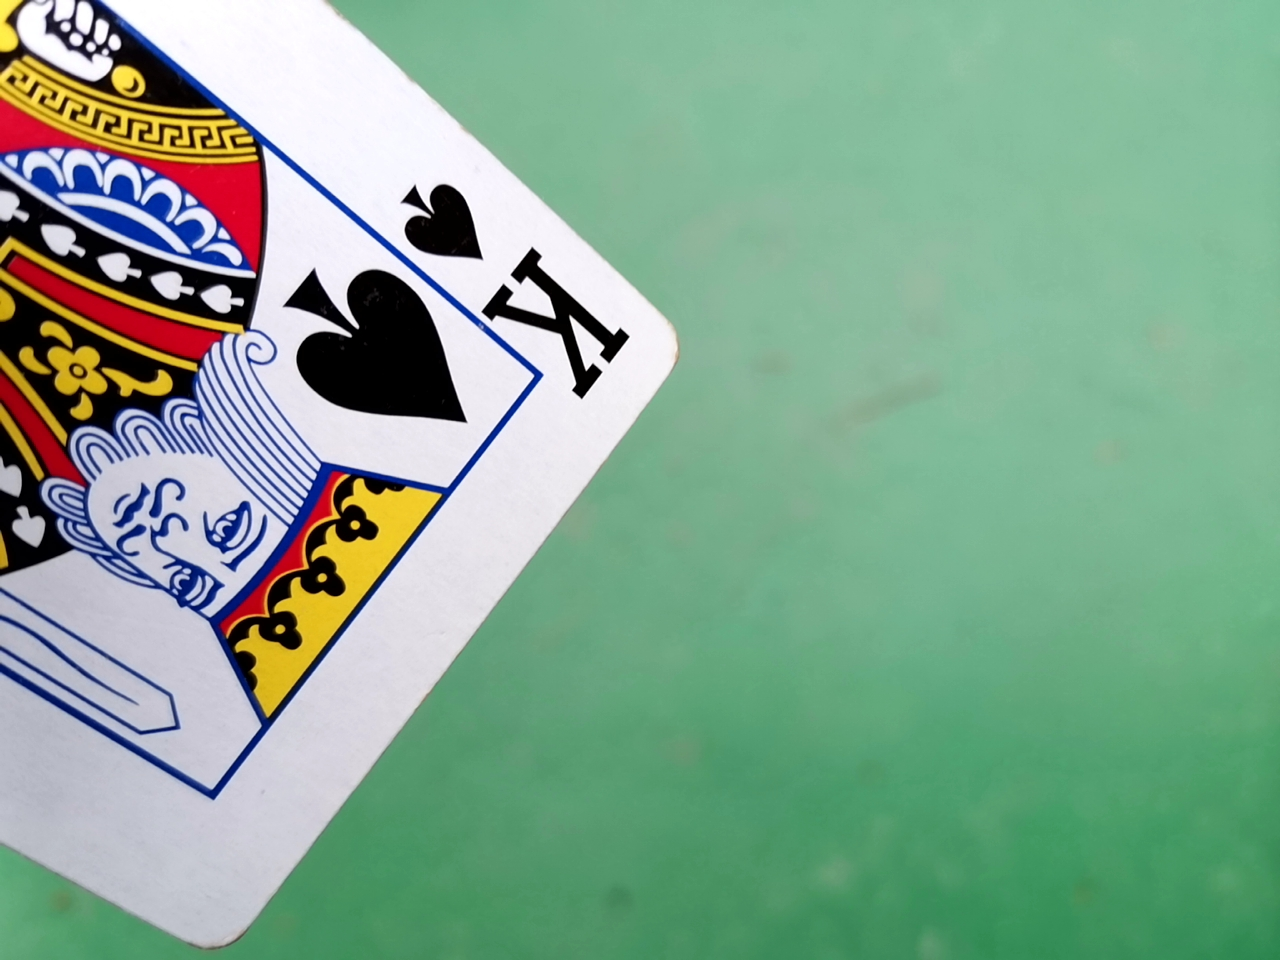ht k: (0, 5, 718, 950)
